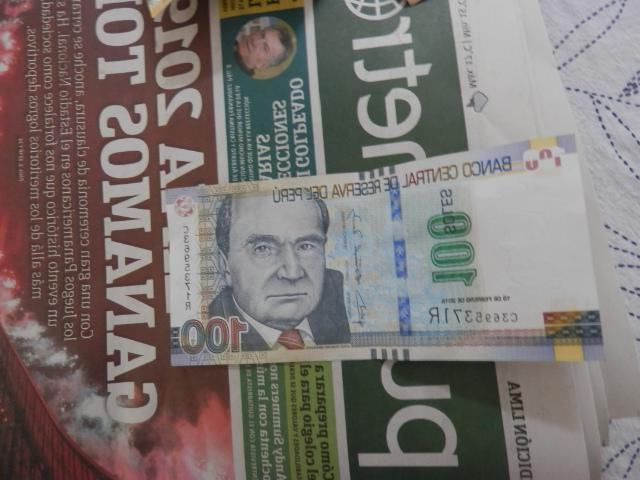B100: (169, 134, 604, 366)
